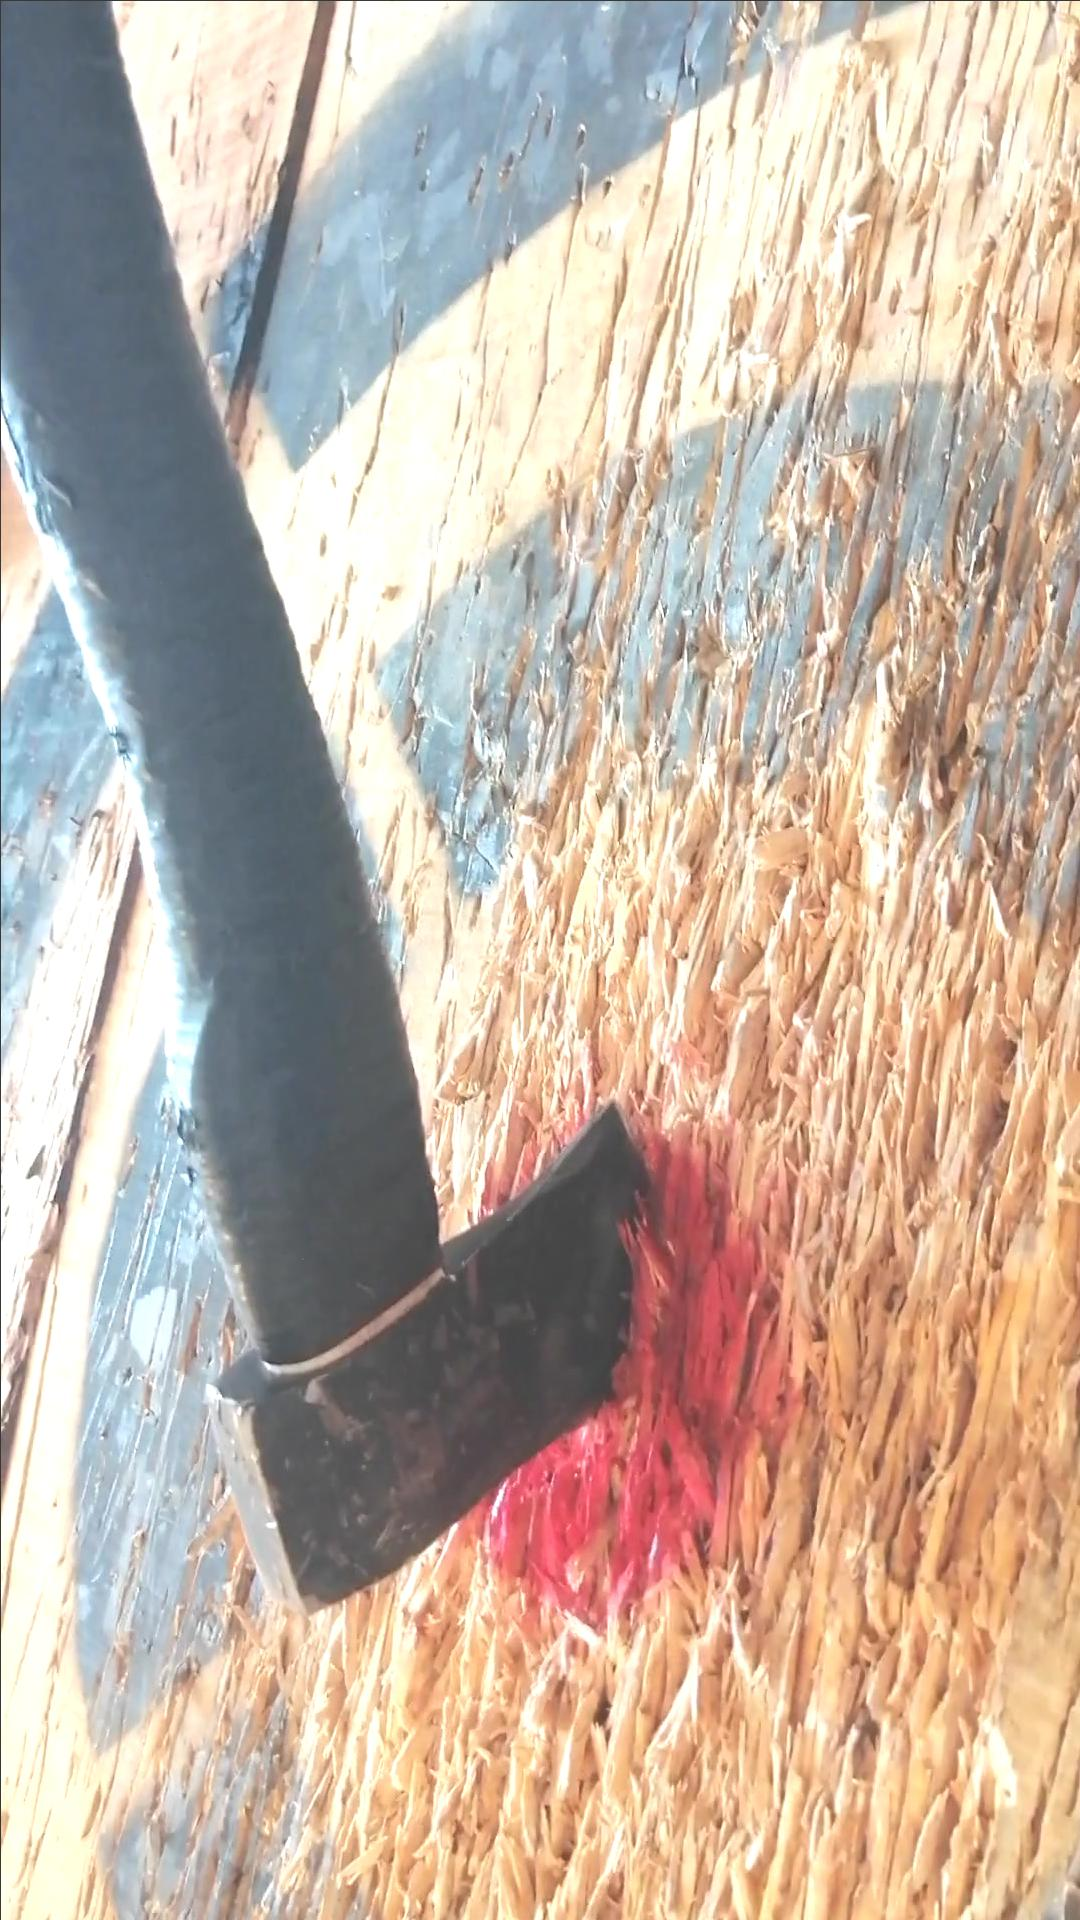Hand Axe: (198, 1091, 637, 1615)
